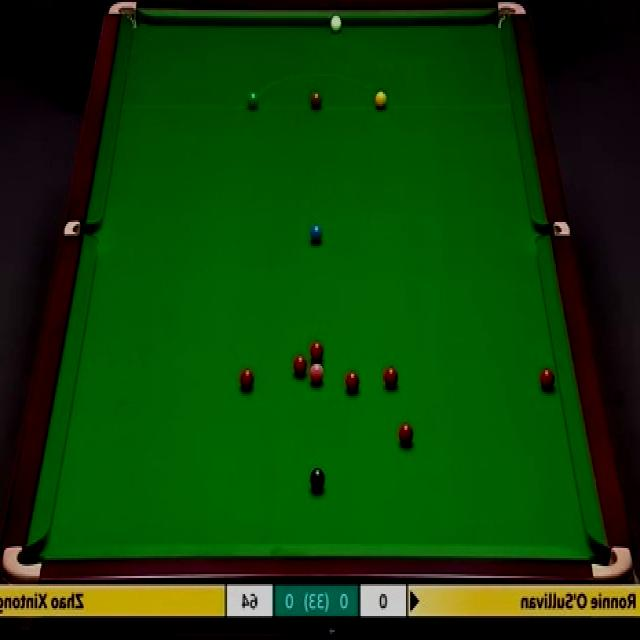black-ball: (308, 467, 324, 490)
blue-ball: (309, 222, 324, 244)
brown-ball: (309, 91, 323, 110)
green-ball: (247, 90, 260, 111)
pink-ball: (308, 362, 325, 387)
red-ball: (344, 370, 361, 394), (239, 369, 255, 394), (398, 421, 414, 446), (292, 354, 308, 378), (538, 368, 555, 390), (384, 366, 398, 390), (309, 340, 324, 361)
white-ball: (328, 12, 343, 33)
yellow-ball: (374, 88, 388, 109)
